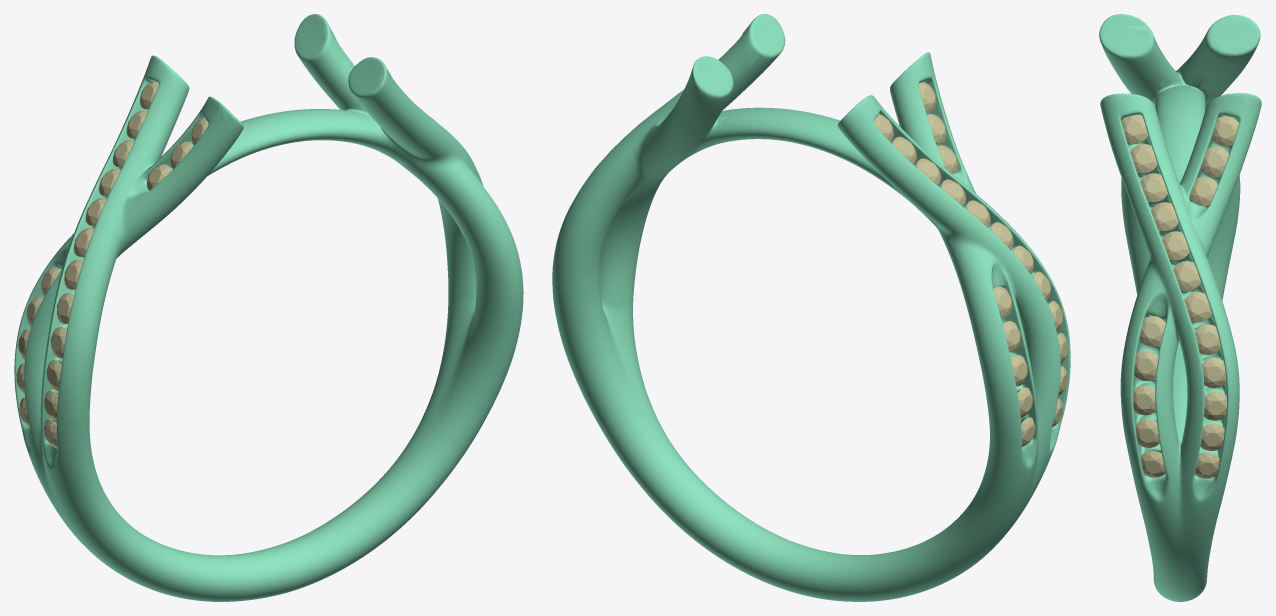
3 views of the same model, side by side, from view 1: azimuth 30°, elevation 25°; view 2: azimuth 150°, elevation 25°; view 3: azimuth 270°, elevation 25° (orthographic). The views are drawn at different scales.
Parts seen in each view (by area): view 1: Metal02; view 2: Metal02; view 3: Metal02, Diamond_Gem.016, Diamond_Gem.010, Diamond_Gem.009, Diamond_Gem.015, Diamond_Gem, Diamond_Gem.001, Diamond_Gem.011, Diamond_Gem.008, Diamond_Gem.017, Diamond_Gem.002, Diamond_Gem.004 (+9 smaller).
Boxes of the visible parts, left/top/right/bottom form: Metal02: left=14, top=14, right=523, bottom=601; Metal02: left=552, top=14, right=1070, bottom=601; Metal02: left=1099, top=14, right=1261, bottom=601; Diamond_Gem.016: left=1134, top=350, right=1158, bottom=380; Diamond_Gem.010: left=1194, top=324, right=1220, bottom=354; Diamond_Gem.009: left=1184, top=292, right=1211, bottom=322; Diamond_Gem.015: left=1139, top=316, right=1165, bottom=346; Diamond_Gem: left=1212, top=116, right=1238, bottom=146; Diamond_Gem.001: left=1201, top=146, right=1228, bottom=176; Diamond_Gem.011: left=1202, top=358, right=1226, bottom=388; Diamond_Gem.008: left=1173, top=261, right=1200, bottom=290; Diamond_Gem.017: left=1133, top=385, right=1155, bottom=415; Diamond_Gem.002: left=1190, top=176, right=1217, bottom=206; Diamond_Gem.004: left=1130, top=144, right=1157, bottom=173.
Size of the model in its own units: 21.04 by 22.67 by 6.37.
